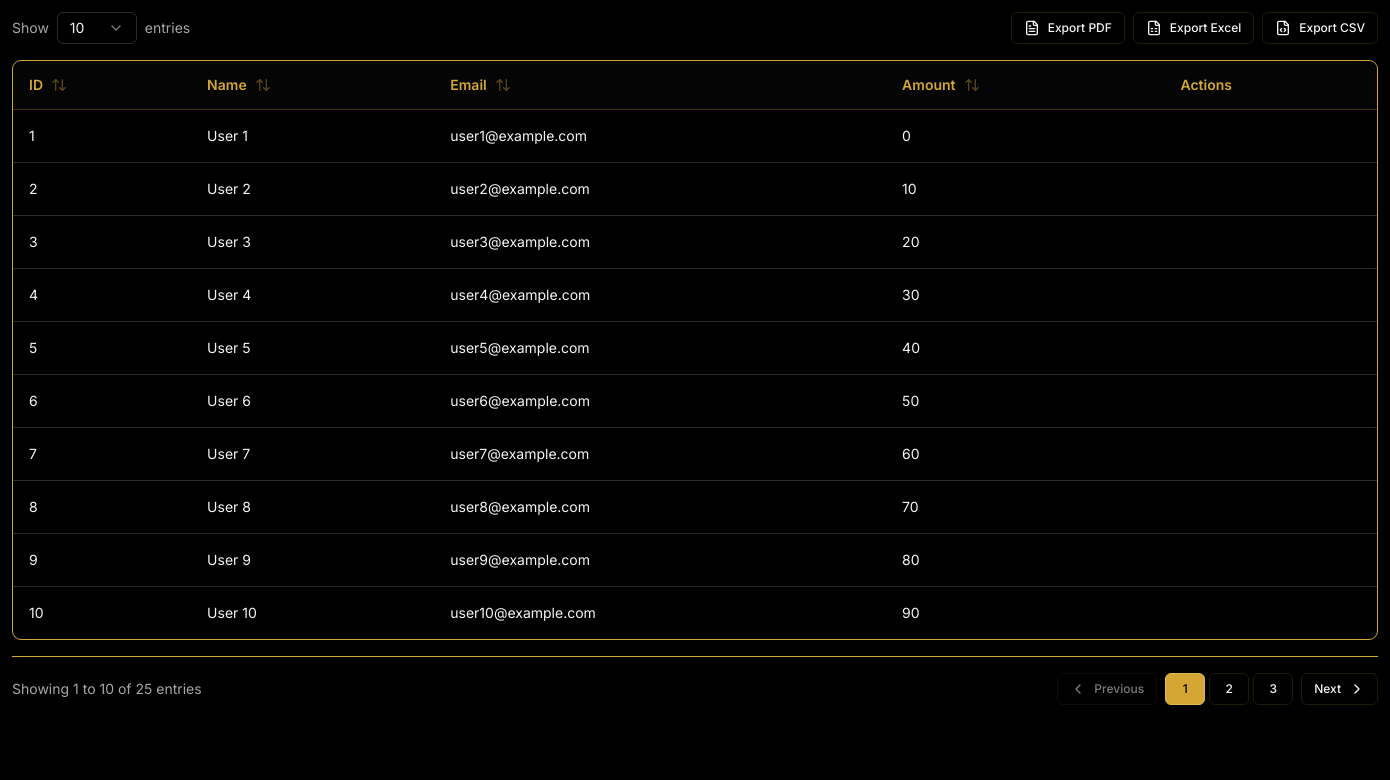
Test: DataTable › disables next button on last page
Navigate to last page (page 3)
What coordinates should you click on to do the following:
click the button with test id "button-page-3"
I would click on:
 (1273, 688)
Its box is [1253,672,1293,704].
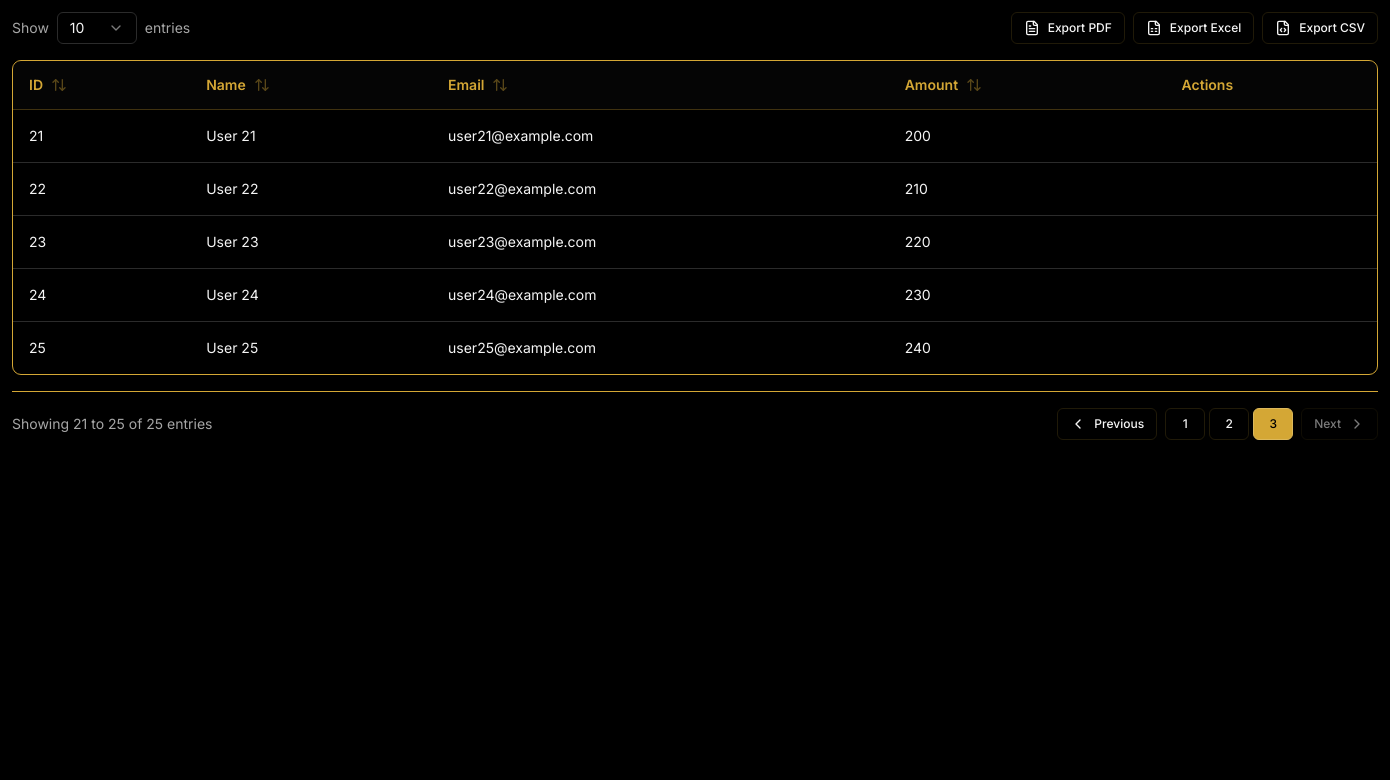
Result: the button with test id "button-next-page" is disabled at [1301,408,1378,440]
